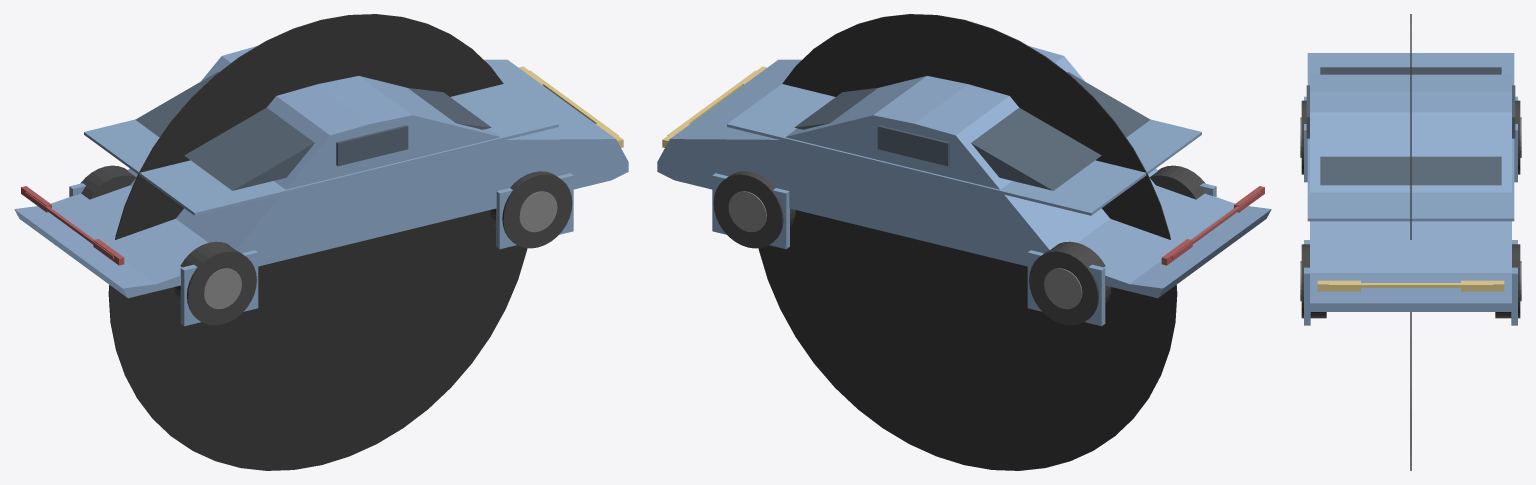
The model's file is sedan.glb.
The picture shows the model from 3 angles, left to right: view 1: azimuth 30°, elevation 25°; view 2: azimuth 150°, elevation 25°; view 3: azimuth 270°, elevation 25°; orthographic projection. The views are drawn at different scales.
Visible parts, largest first — view 1: shadow, body, beltline, glass, tire_2, tire_0, side_glass_0, rim_0, rim_2, tire_3, arch_2, arch_0; view 2: shadow, body, beltline, glass, tire_3, tire_1, side_glass_1, rim_1, rim_3, tire_2, arch_3, arch_1; view 3: body, beltline, glass, headlight_bar, shadow, tire_0, tire_1, headlight_1, arch_0, arch_1, headlight_0, tire_2 (+1 smaller).
Part boxes in pixels (x1,y1,x2,y2): shadow: (108,14,527,470); body: (14,45,628,298); beltline: (84,84,558,215); glass: (135,72,491,190); tire_2: (174,241,256,325); tire_0: (490,171,572,248); side_glass_0: (336,125,408,166); rim_0: (519,191,557,232); rim_2: (203,268,241,309); tire_3: (80,165,136,199); arch_2: (180,250,258,326); arch_0: (496,173,573,249); shadow: (758,14,1177,470); body: (657,45,1271,298); beltline: (727,84,1201,215); glass: (794,72,1150,190); tire_3: (1029,241,1111,325); tire_1: (713,171,795,248); side_glass_1: (877,125,949,166); rim_1: (728,191,766,232); rim_3: (1044,268,1082,309); tire_2: (1149,165,1205,199); arch_3: (1027,250,1105,326); arch_1: (712,173,789,249); body: (1310,74,1511,311); beltline: (1307,53,1514,221); glass: (1320,67,1501,185); headlight_bar: (1328,283,1493,287); shadow: (1410,14,1411,470); tire_0: (1301,244,1326,318); tire_1: (1495,244,1520,318); headlight_1: (1461,280,1504,291); arch_0: (1304,240,1310,325); arch_1: (1511,240,1517,325); headlight_0: (1317,280,1360,291); tire_2: (1301,100,1306,174).
Size of the model in its own units: 4.78 by 4.02 by 1.94.
